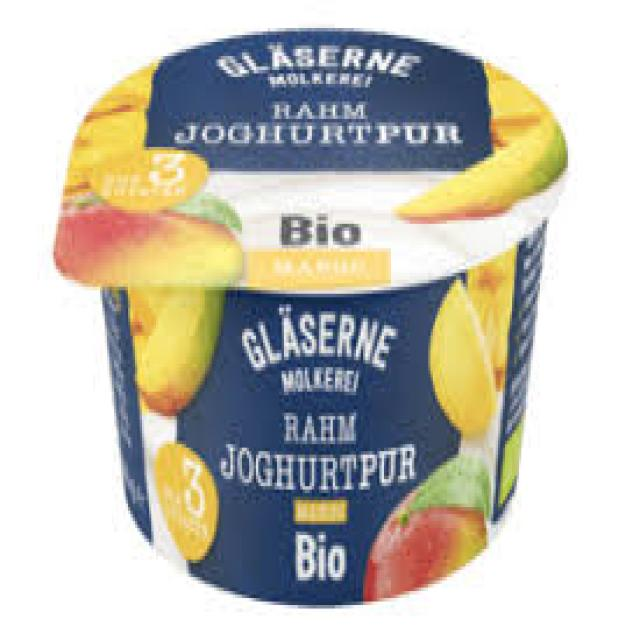plastic: (49, 25, 565, 602)
